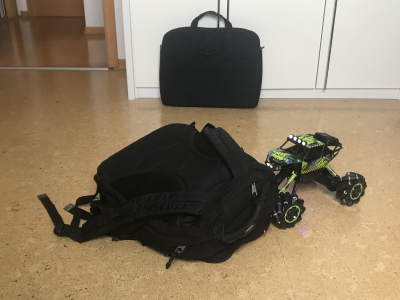remote control car: (254, 128, 369, 231)
